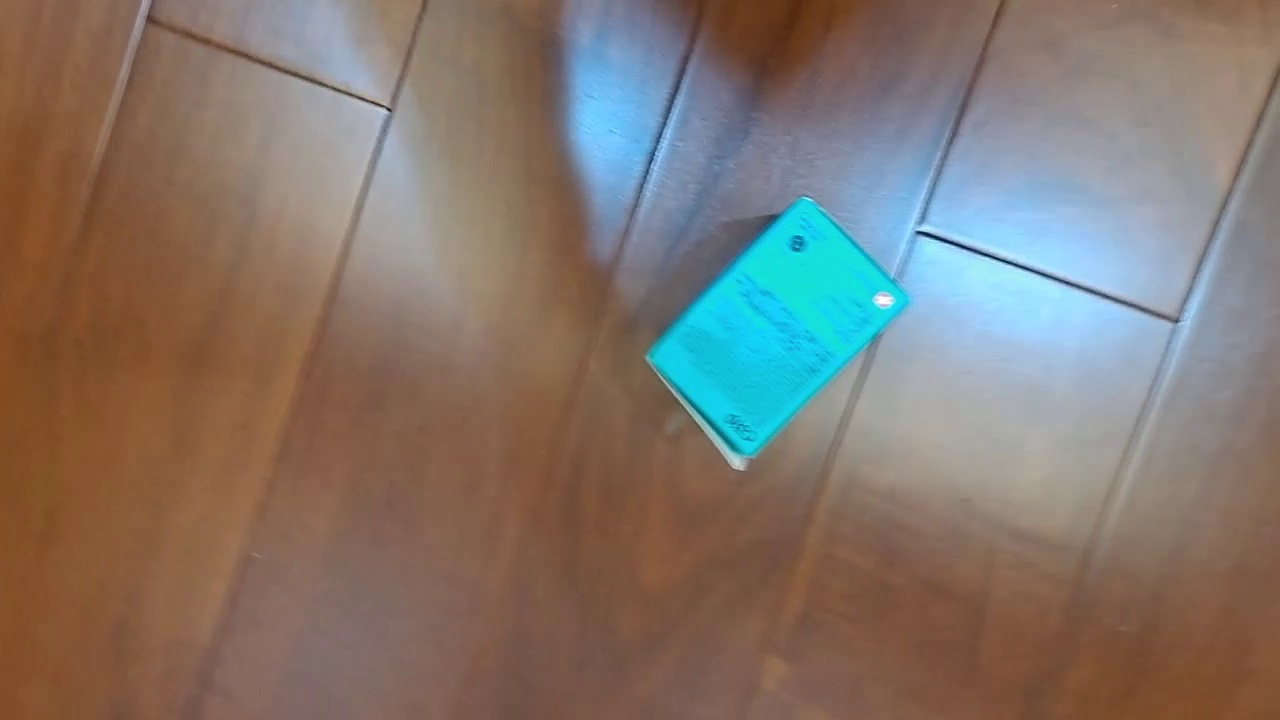webcam: (642, 194, 915, 474)
